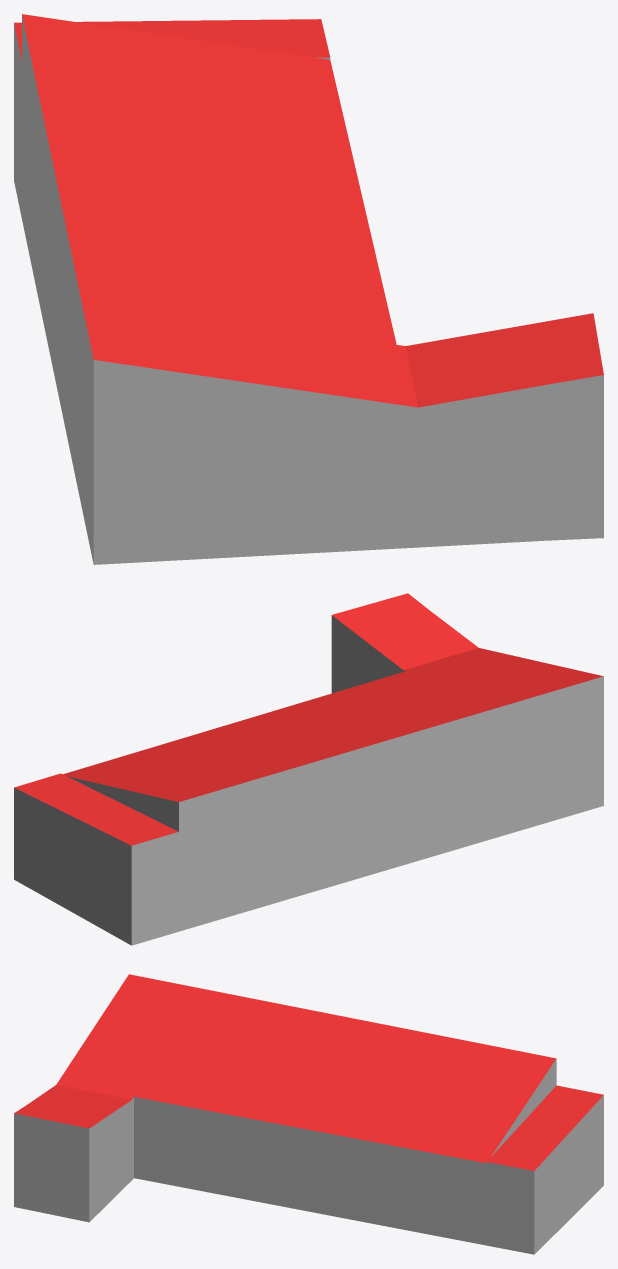
Rendered from DEBY_LOD2_4908174.dae.
3 views of the same model, one above another, from view 1: azimuth 30°, elevation 25°; view 2: azimuth 150°, elevation 25°; view 3: azimuth 270°, elevation 25° (orthographic). The views are drawn at different scales.
Size of the model in its own units: 15.67 by 24.01 by 5.29.
